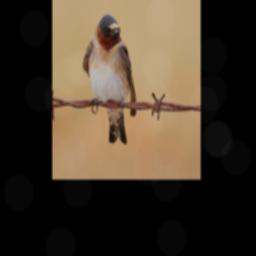Swallow: (83, 13, 137, 145)
